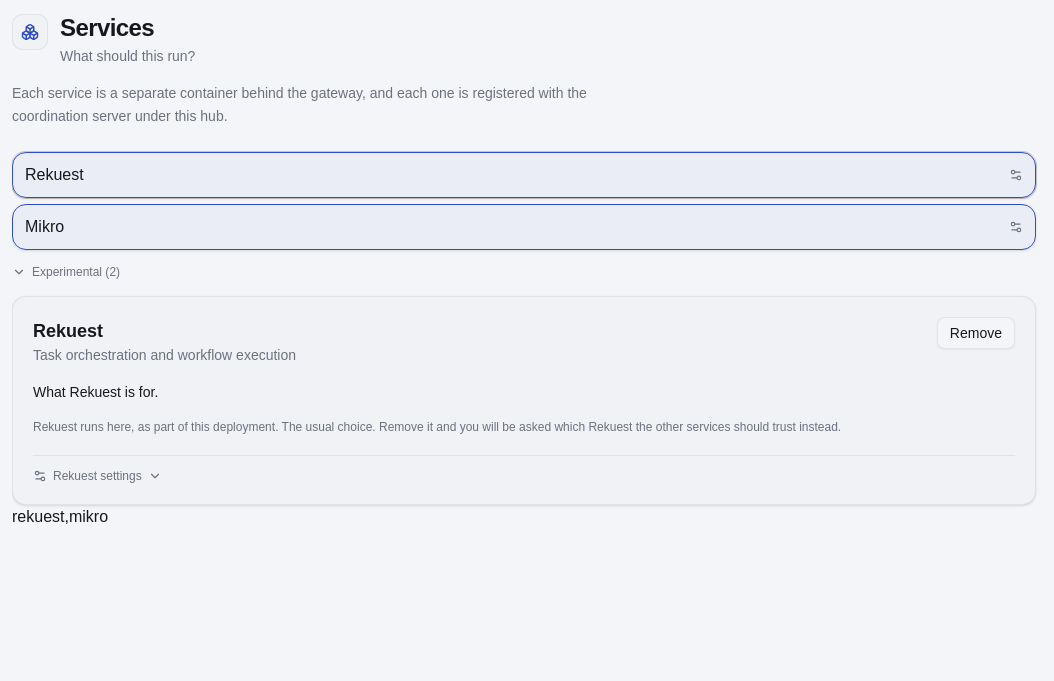
ServicesStep › does not pre-tick them, and ticking one adds it to the form
Expected: the text "Mikro" is shown, [25,214,64,238]
Click the button "Experimental (2)".
click(66, 272)  # box [12,264,120,280]
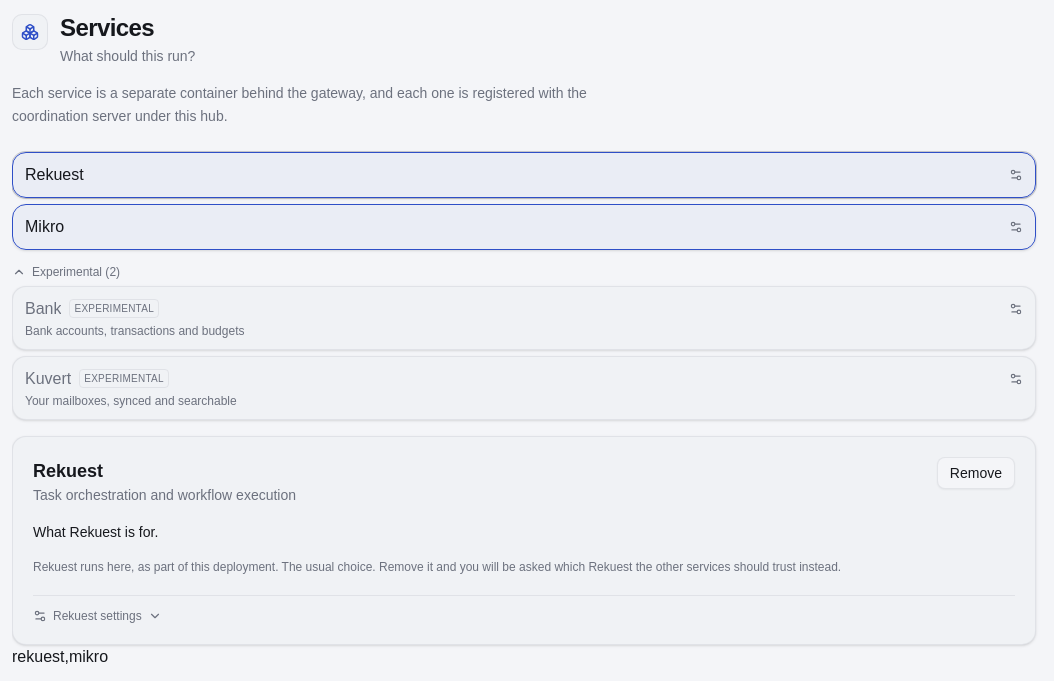
Click the text "Kuvert".
click(48, 378)  # box [25,366,71,390]
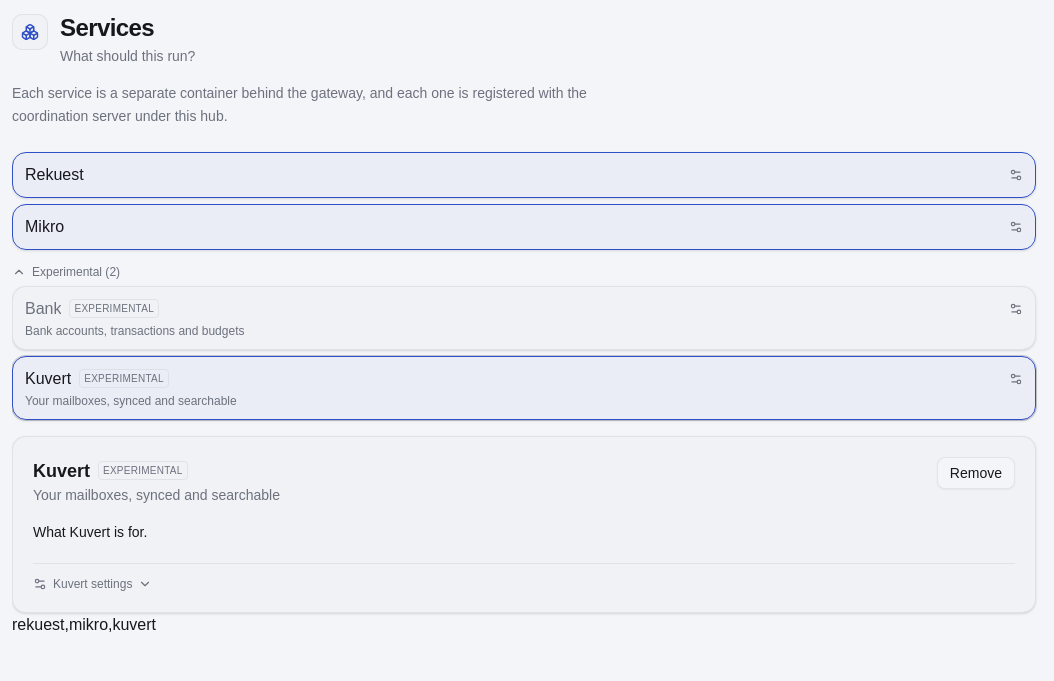
Now the text with test id "selected" reads "rekuest,mikro,kuvert", box [12,616,156,633]
